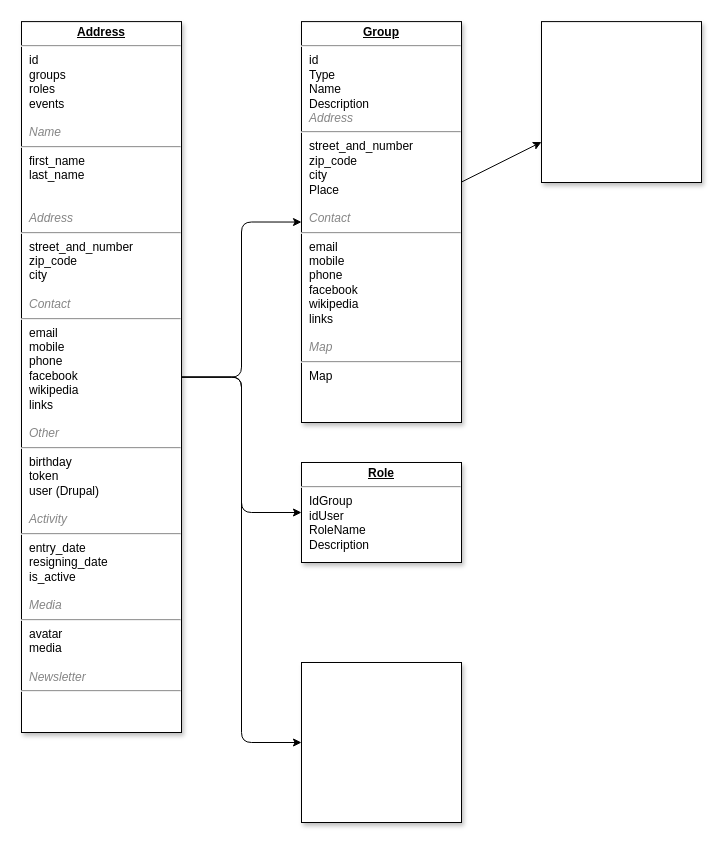
The diagram is 725 pixels wide and 847 high, and some of its shapes have lost their labels. Each missing label, with the centre of its shape:
GroupType id Company Music Group: point 622,103
User (Drupal User) IdUser name login_name: point 382,744
